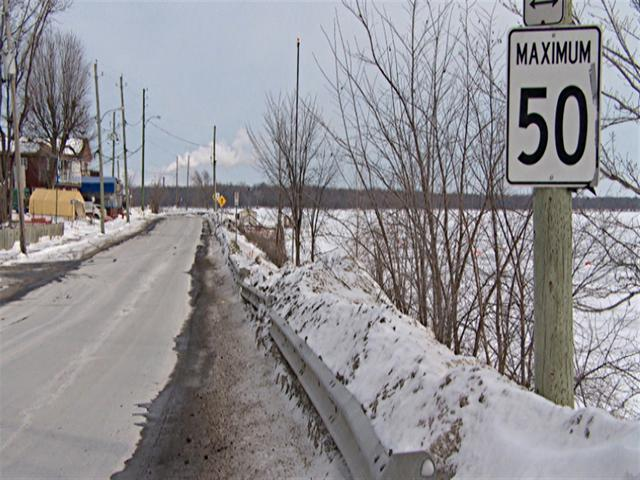vitesse: (503, 26, 603, 188)
